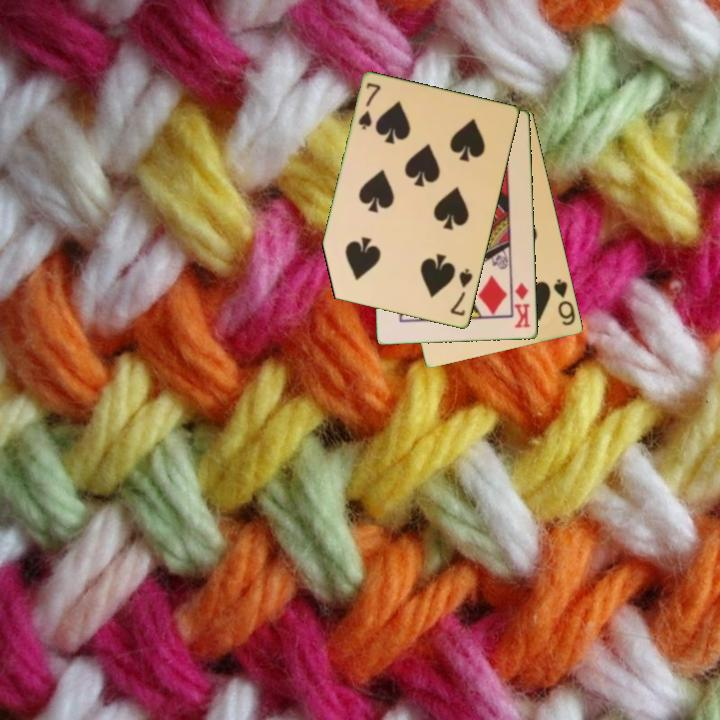6s: (550, 275, 578, 329)
7s: (447, 265, 476, 319), (355, 79, 384, 133)
Kd: (511, 279, 534, 331)
